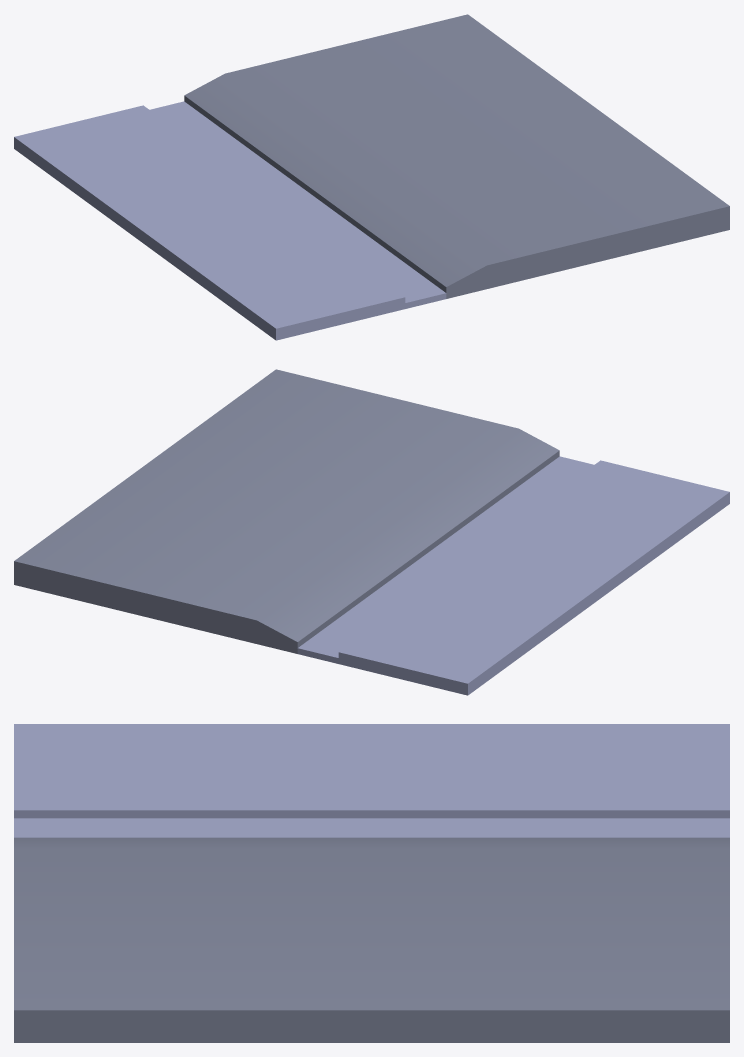
Rendered from road-edge.glb.
3 renders of one model, top to bottom at view 1: azimuth 30°, elevation 25°; view 2: azimuth 150°, elevation 25°; view 3: azimuth 270°, elevation 25°, orthographic. The views are drawn at different scales.
Parts seen in each view (by area): view 1: road-edge; view 2: road-edge; view 3: road-edge.
Boxes of the visible parts, x1,y1,x2,y2 form: road-edge: (14, 14, 729, 340); road-edge: (14, 369, 729, 695); road-edge: (14, 724, 729, 1042).
Bounding box in the file's own units: 1 × 0.05 × 1.
1 material, 1 textured.
